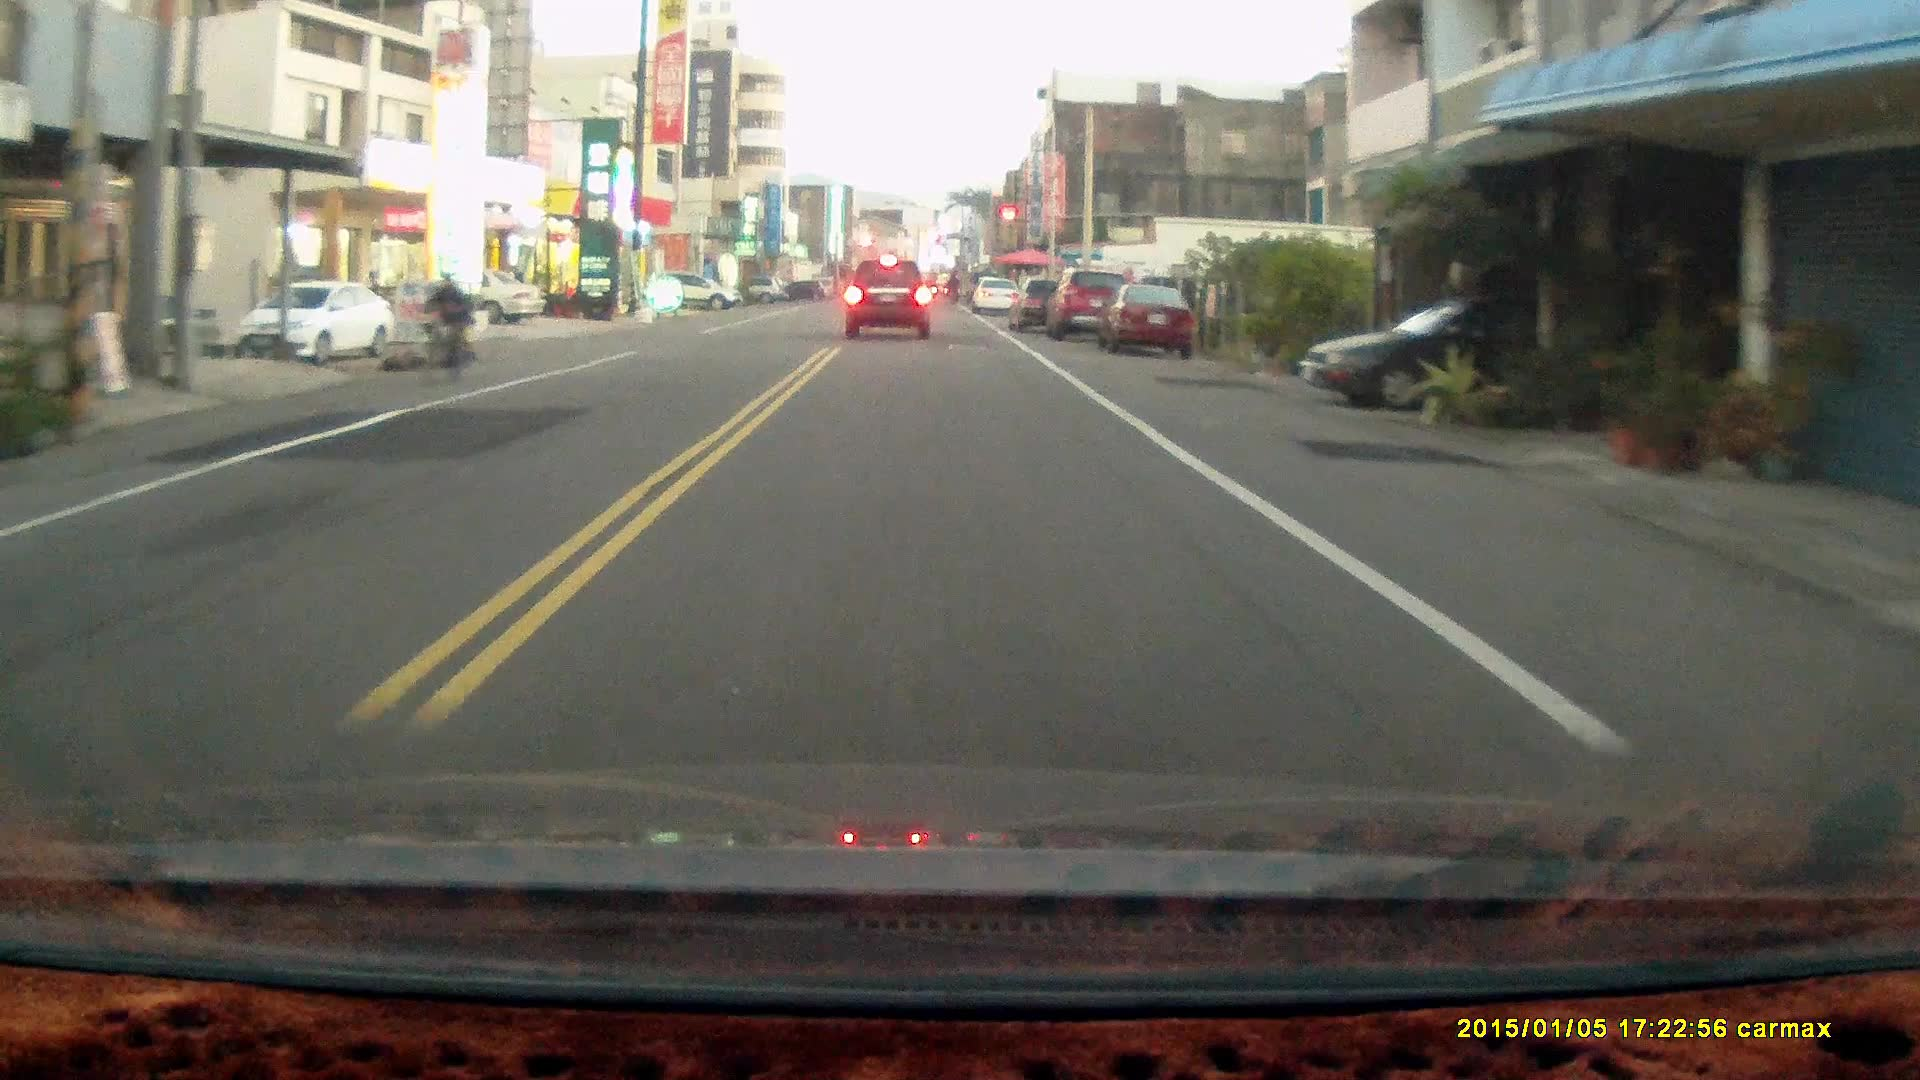rider: (417, 276, 468, 390)
vehicle: (1299, 293, 1692, 414), (240, 289, 395, 375), (396, 275, 550, 333), (1093, 286, 1199, 367), (843, 261, 938, 342), (1048, 269, 1137, 348), (654, 271, 742, 313)
